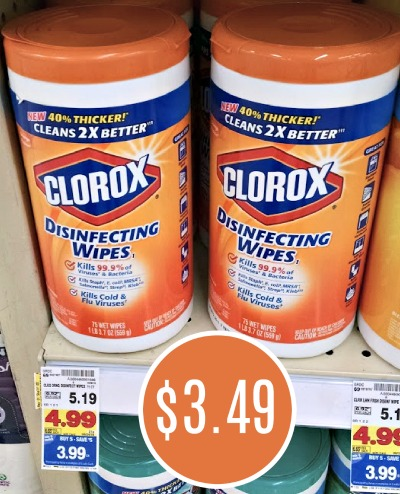Wipes: (202, 1, 400, 361), (2, 2, 200, 356), (350, 70, 400, 374), (71, 407, 196, 494), (196, 420, 335, 494), (325, 423, 399, 494)
